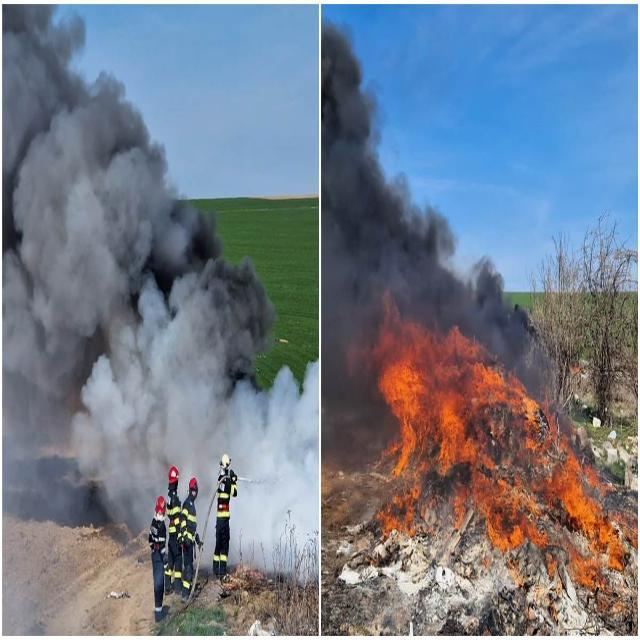Fire: (396, 336, 613, 576)
Smoke: (0, 9, 314, 576), (325, 18, 531, 464)
